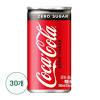can: (24, 4, 76, 95), (25, 4, 72, 93)
